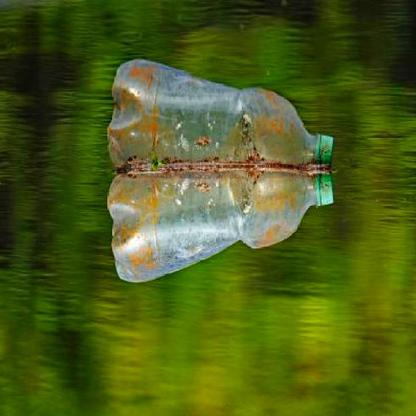plastic bottle: (106, 168, 334, 283)
